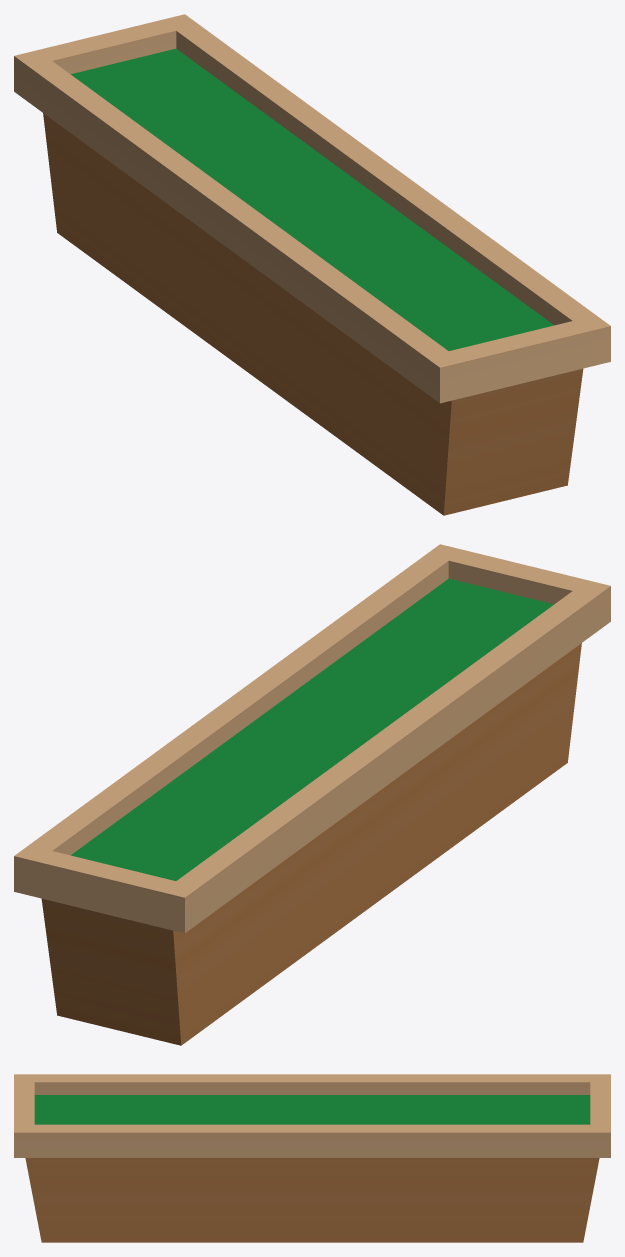
The model's file is FlowerPot_5_1_A.glb.
The picture shows the model from 3 angles, top to bottom: view 1: azimuth 30°, elevation 25°; view 2: azimuth 150°, elevation 25°; view 3: azimuth 270°, elevation 25°; orthographic projection. The views are drawn at different scales.
Parts seen in each view (by area): view 1: FlowerPot_5_1_A; view 2: FlowerPot_5_1_A; view 3: FlowerPot_5_1_A.
Boxes of the visible parts, bbox=[...] form: FlowerPot_5_1_A: bbox=[14, 14, 610, 515]; FlowerPot_5_1_A: bbox=[14, 544, 610, 1045]; FlowerPot_5_1_A: bbox=[14, 1074, 610, 1242].
Size of the model in its own units: 0.3246 by 0.3052 by 1.4.
Materials: 1 (1 with a texture image).
